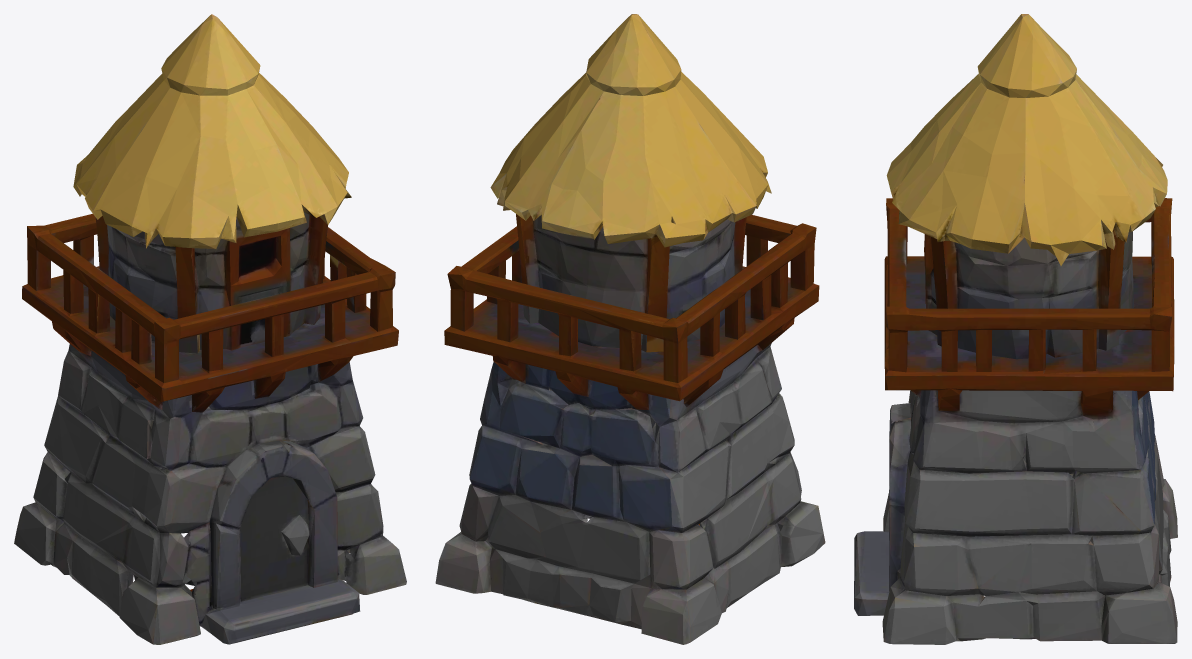
The model's file is stone_watchtower_5.glb.
3 views of the same model, side by side, from view 1: azimuth 30°, elevation 25°; view 2: azimuth 150°, elevation 25°; view 3: azimuth 270°, elevation 25° (orthographic). The views are drawn at different scales.
Size of the model in its own units: 0.9616 by 1.98 by 1.02.
Materials: 1 (1 with a texture image).
